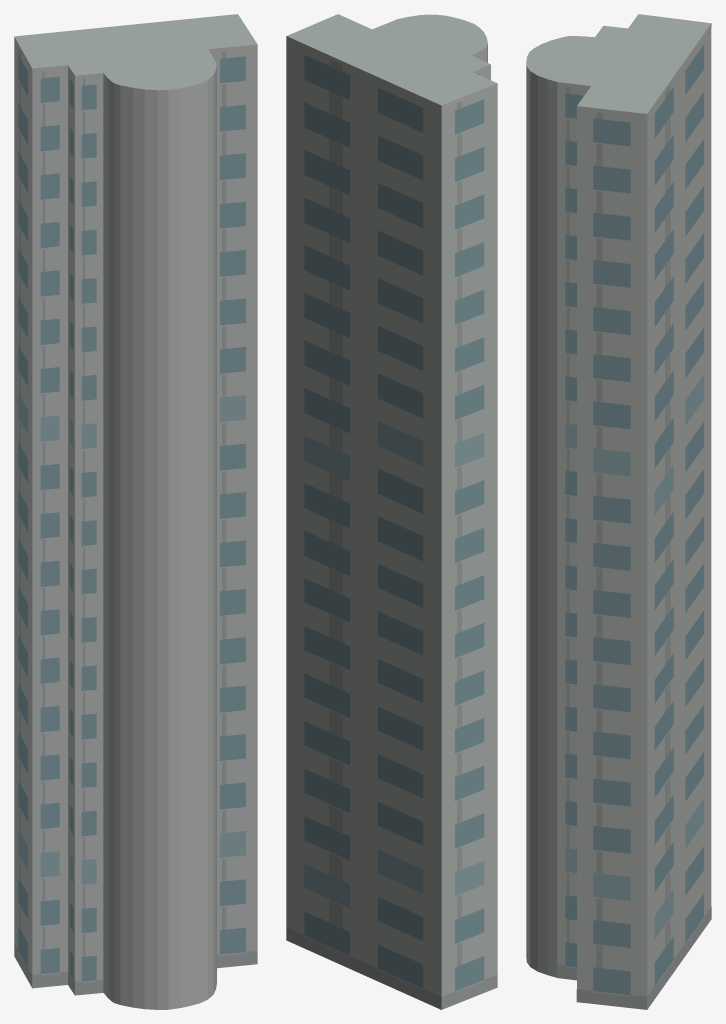
File: survey-upis-32941551.glb
3 renders of one model, left to right at view 1: azimuth 30°, elevation 25°; view 2: azimuth 150°, elevation 25°; view 3: azimuth 270°, elevation 25°, orthographic. The views are drawn at different scales.
Visible parts, largest first — view 1: survey-upis-32941551.tmp; view 2: survey-upis-32941551.tmp; view 3: survey-upis-32941551.tmp.
Part boxes in pixels (bbox=[...]): survey-upis-32941551.tmp: bbox=[14, 14, 257, 1009]; survey-upis-32941551.tmp: bbox=[286, 14, 497, 1009]; survey-upis-32941551.tmp: bbox=[526, 14, 711, 1009].
Size of the model in its own units: 13.86 by 57.95 by 10.85.
